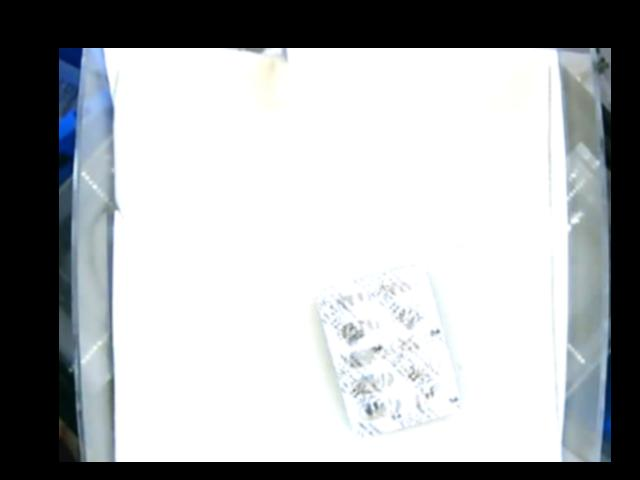Medicine: (318, 266, 464, 439)
